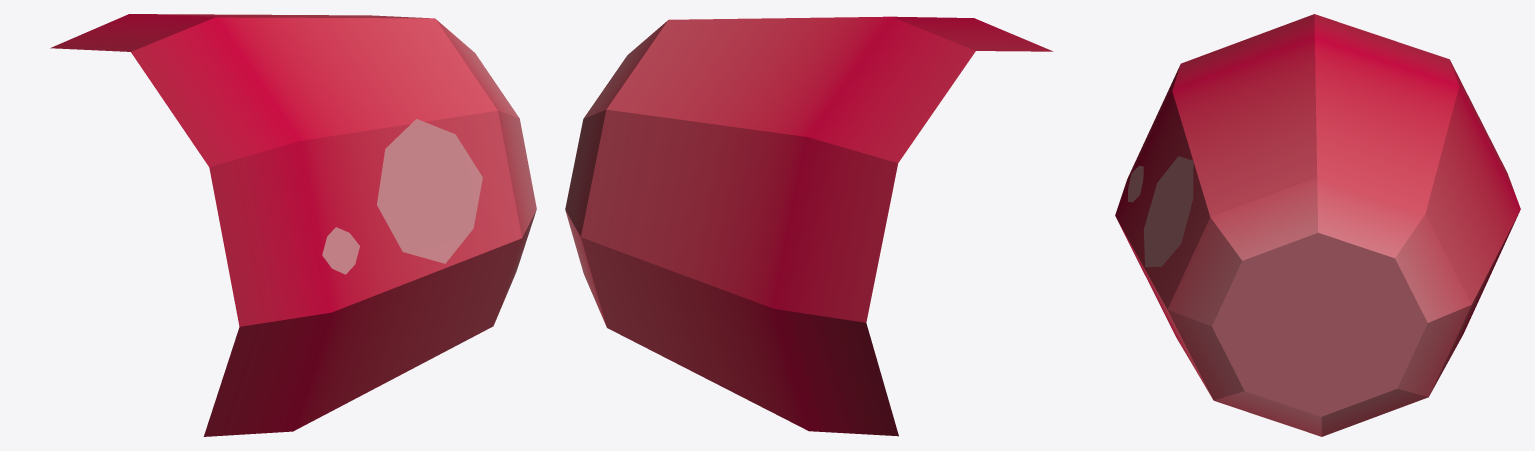
The model's file is YetiScannerSLightBulbRed_0.glb.
3 views of the same model, side by side, from view 1: azimuth 30°, elevation 25°; view 2: azimuth 150°, elevation 25°; view 3: azimuth 270°, elevation 25° (orthographic). The views are drawn at different scales.
Parts seen in each view (by area): view 1: YetiScannerSLightBulbRed; view 2: YetiScannerSLightBulbRed; view 3: YetiScannerSLightBulbRed.
Boxes of the visible parts, x1=… form: YetiScannerSLightBulbRed: x1=50, y1=14, x2=536, y2=436; YetiScannerSLightBulbRed: x1=565, y1=16, x2=1053, y2=436; YetiScannerSLightBulbRed: x1=1115, y1=14, x2=1520, y2=436.
Bounding box in the file's own units: 0.1387 × 0.1554 × 0.1625.
